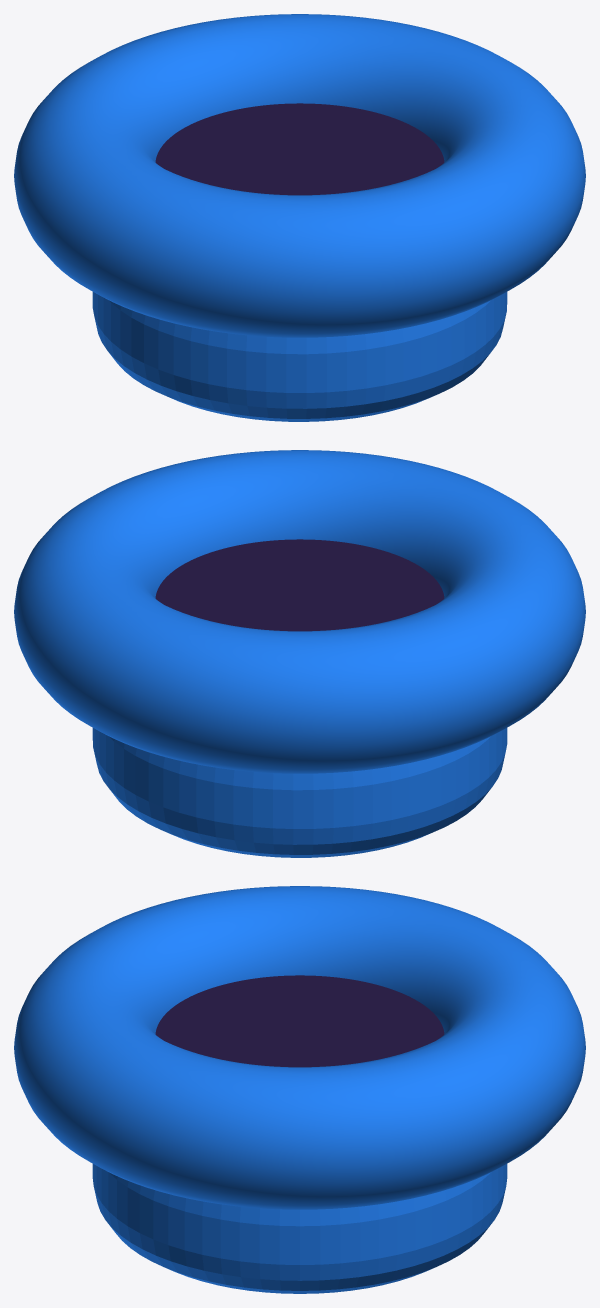
The model's file is Receiver.fbx.
3 renders of one model, top to bottom at view 1: azimuth 30°, elevation 25°; view 2: azimuth 150°, elevation 25°; view 3: azimuth 270°, elevation 25°, orthographic.
Visible parts, largest first — view 1: Receiver Flared Receiver Lip, Receiver Short Receiver Base, Receiver Dark Receiver Opening; view 2: Receiver Flared Receiver Lip, Receiver Short Receiver Base, Receiver Dark Receiver Opening; view 3: Receiver Flared Receiver Lip, Receiver Short Receiver Base, Receiver Dark Receiver Opening.
Part boxes in pixels (<box>): Receiver Flared Receiver Lip: <box>14,14,585,337</box>; Receiver Short Receiver Base: <box>92,292,507,421</box>; Receiver Dark Receiver Opening: <box>155,103,444,195</box>; Receiver Flared Receiver Lip: <box>14,450,585,773</box>; Receiver Short Receiver Base: <box>92,728,507,857</box>; Receiver Dark Receiver Opening: <box>155,539,444,631</box>; Receiver Flared Receiver Lip: <box>14,886,585,1209</box>; Receiver Short Receiver Base: <box>92,1164,507,1293</box>; Receiver Dark Receiver Opening: <box>155,975,444,1067</box>.
Size of the model in its own units: 0.8 by 0.37 by 0.8.
